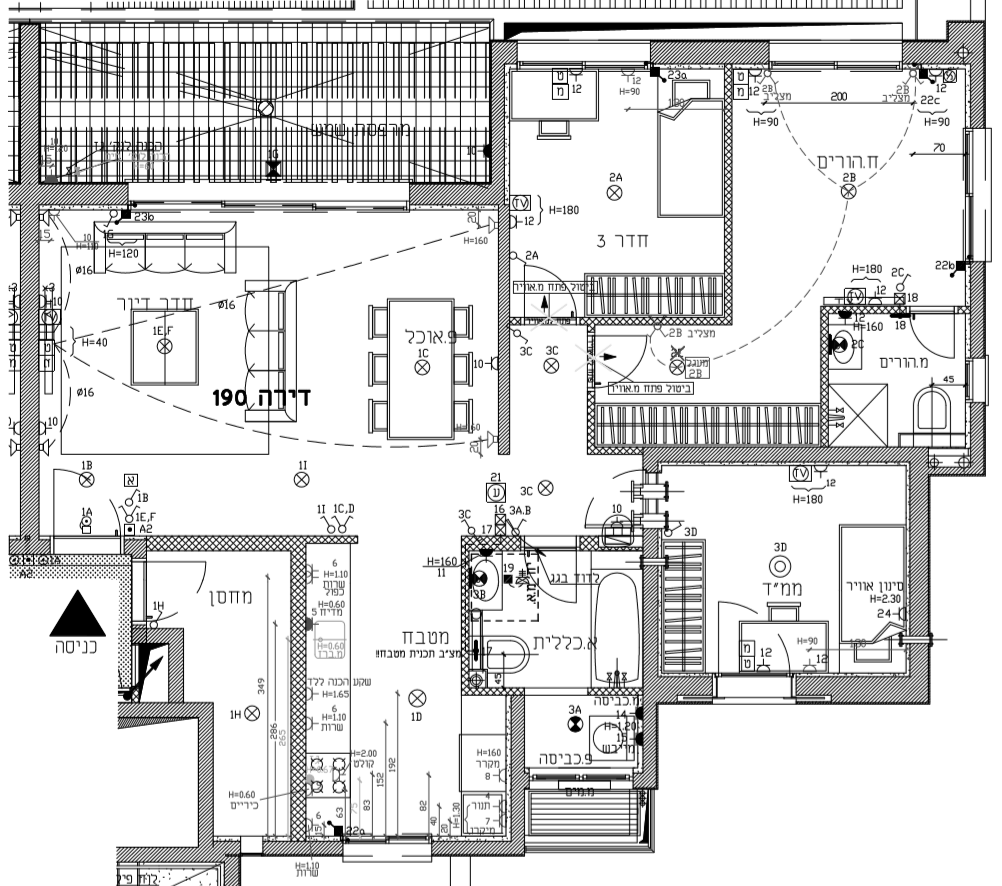door: (713, 592, 798, 685), (47, 455, 125, 537), (511, 260, 581, 329), (148, 556, 209, 626), (520, 552, 584, 611), (595, 330, 652, 393), (907, 314, 959, 358)
room: (18, 181, 512, 545), (643, 446, 928, 705), (491, 40, 735, 328)
wall: (20, 23, 40, 535), (638, 530, 660, 789), (909, 447, 927, 704), (511, 688, 527, 852), (197, 704, 213, 861)
window: (768, 39, 903, 71), (515, 39, 652, 70), (962, 127, 993, 262), (967, 356, 990, 406)
